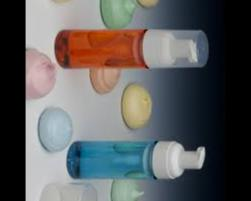Plastic: (55, 29, 209, 70), (67, 137, 207, 181)
